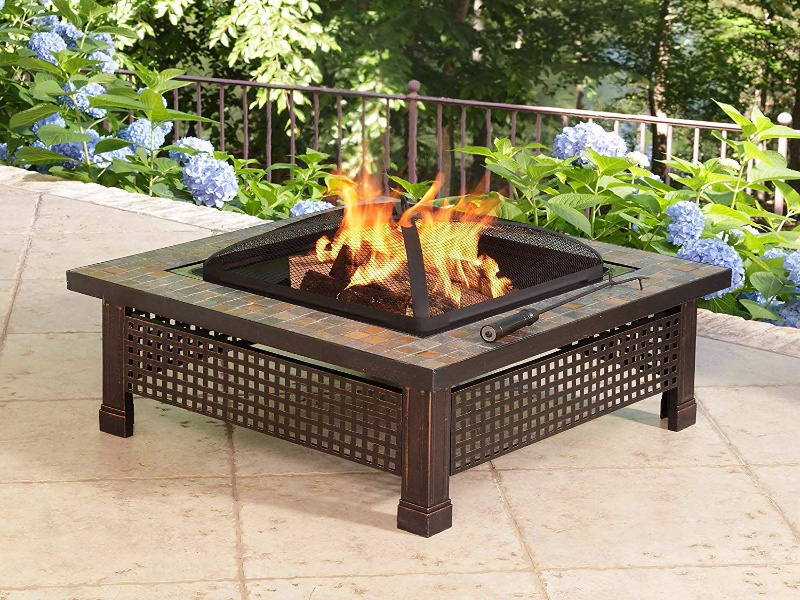fire: (320, 163, 505, 289)
